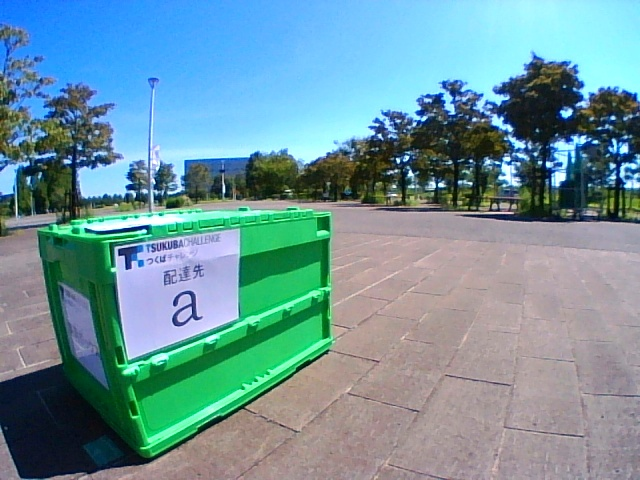green_box: (38, 207, 332, 459)
tag_a: (143, 261, 208, 329)
